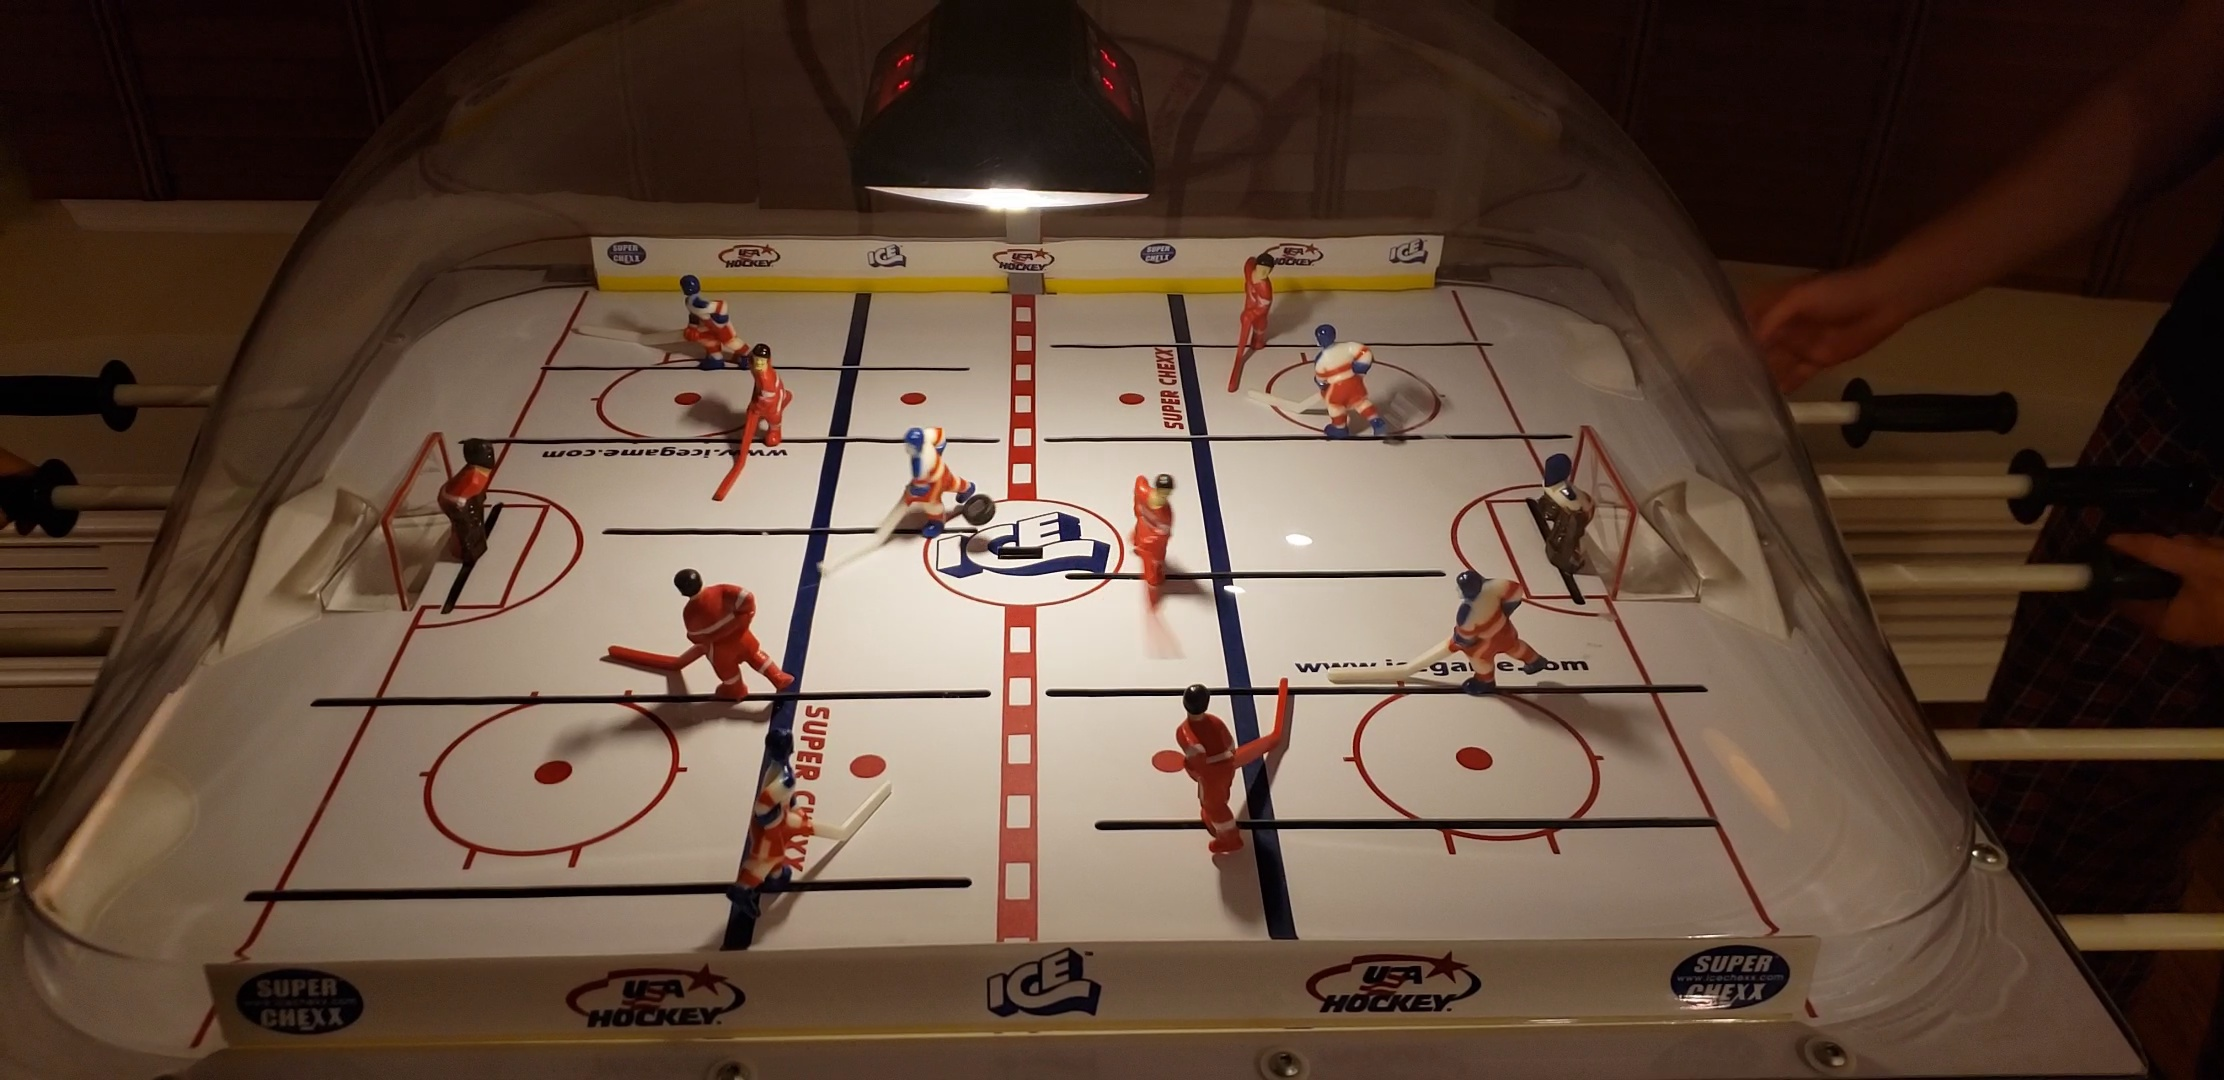puck: (960, 491, 997, 528)
